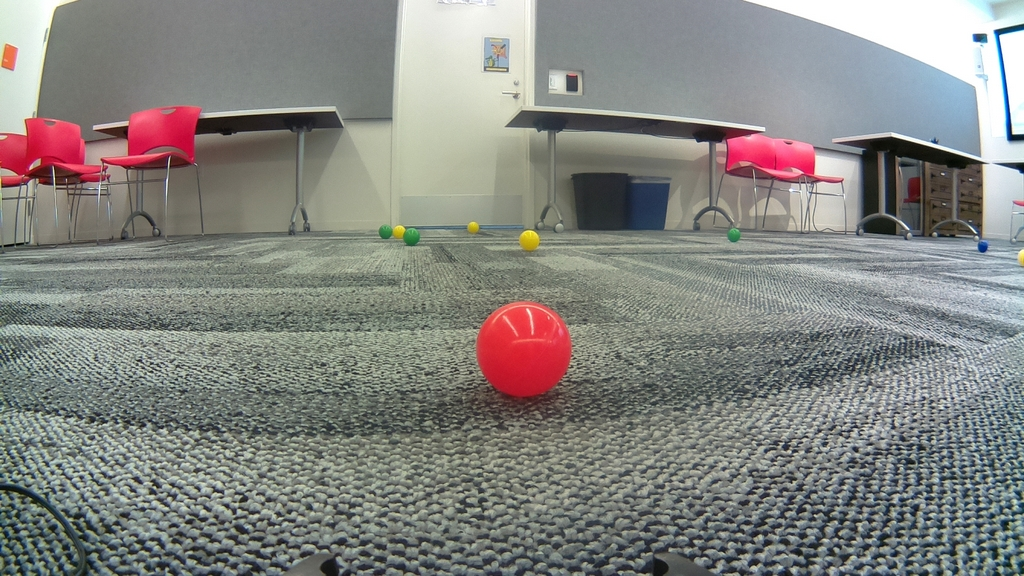ball: (379, 226, 391, 237)
